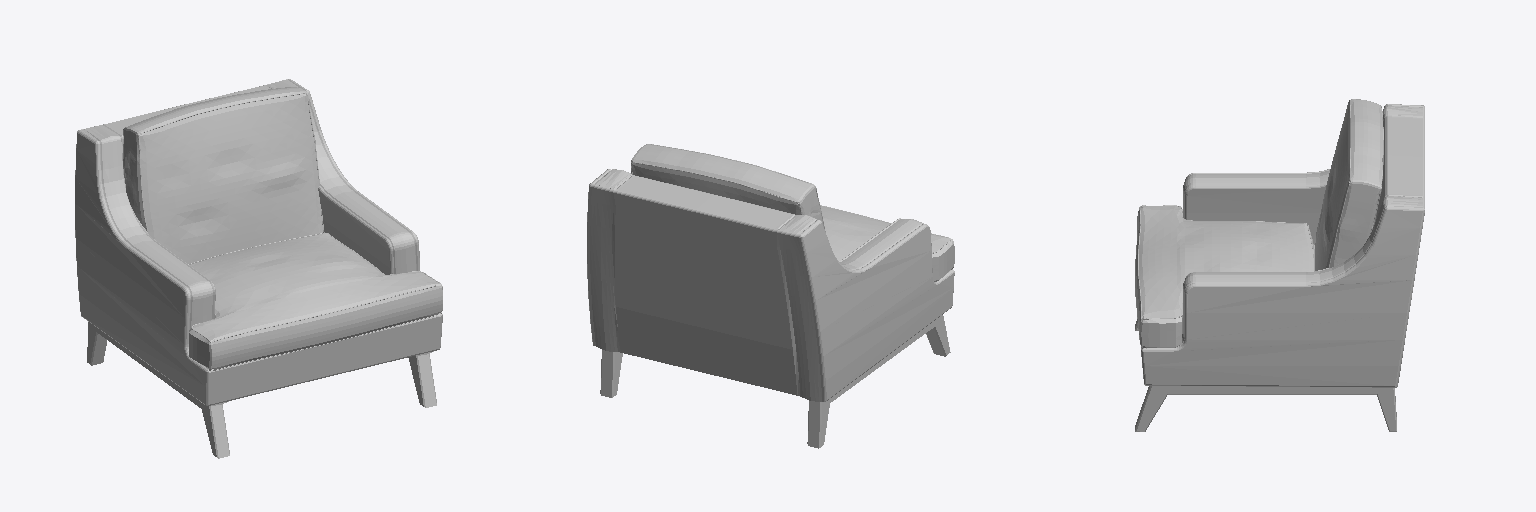
The picture shows the model from 3 angles: view 1: azimuth 30°, elevation 25°; view 2: azimuth 150°, elevation 25°; view 3: azimuth 270°, elevation 25°; orthographic projection.
Parts seen in each view (by area): view 1: fal001b, 4, 6, 2; view 2: fal001b, 4, 6, 2; view 3: fal001b, 6, 4, 2.
Part boxes in pixels (left/top/right/bottom): fal001b: left=75, top=79, right=442, bottom=405; 4: left=123, top=87, right=324, bottom=263; 6: left=188, top=233, right=442, bottom=370; 2: left=87, top=322, right=436, bottom=458; fal001b: left=587, top=169, right=954, bottom=401; 4: left=631, top=144, right=825, bottom=231; 6: left=820, top=205, right=954, bottom=281; 2: left=600, top=315, right=950, bottom=448; fal001b: left=1141, top=104, right=1424, bottom=387; 6: left=1135, top=205, right=1314, bottom=348; 4: left=1315, top=99, right=1383, bottom=270; 2: left=1135, top=319, right=1396, bottom=431.
Bounding box in the file's own units: 32.71 × 32.3 × 34.47.